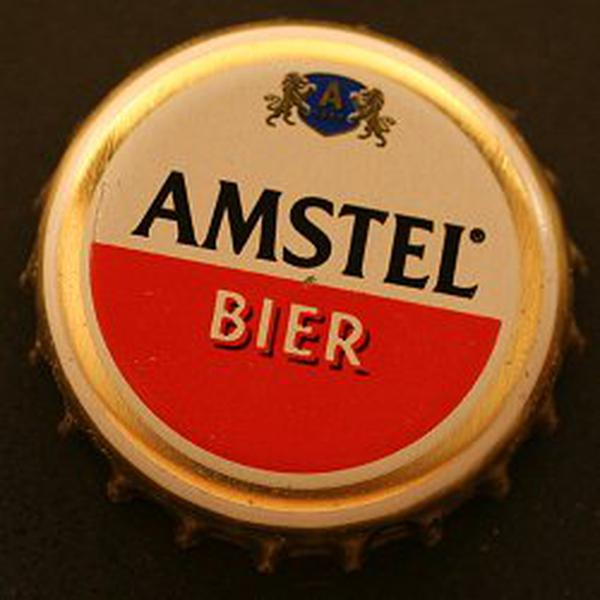amstel: (14, 5, 586, 566)
